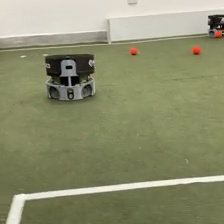ball: (192, 45, 200, 54), (130, 46, 138, 54), (215, 30, 222, 38)
goal: (106, 8, 224, 44)
robot: (43, 51, 97, 101), (206, 12, 224, 37)
